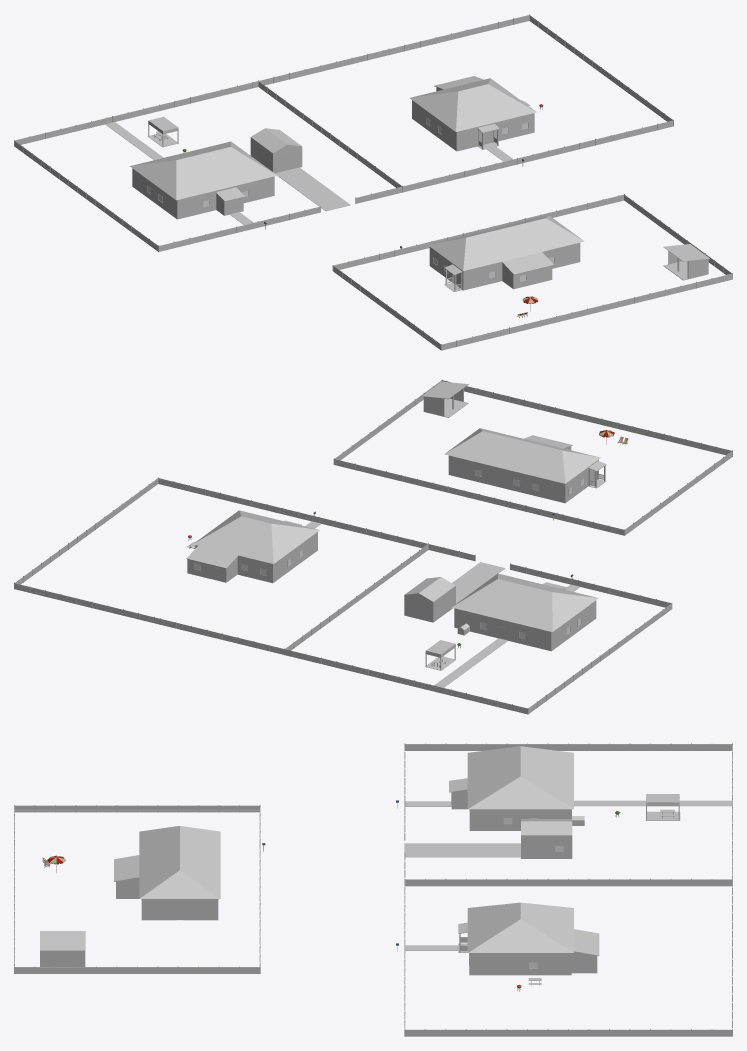
File: HauseHutor02.fbx
3 renders of one model, top to bottom at view 1: azimuth 30°, elevation 25°; view 2: azimuth 150°, elevation 25°; view 3: azimuth 270°, elevation 25°, orthographic. The views are drawn at different scales.
Visible parts, largest first — view 1: Zabor.013, Zabor.001, Roof, Zabor.024, Roof.003, Roof.005, Hause, HauseE.007, HauseE.004, Garaje, Cube.001, HauseE.019 (+2 smaller); view 2: Zabor.001, Zabor.013, Roof, Zabor.024, Roof.003, Roof.005, HauseE.004, Hause, Garaje, HauseE.007, Cube.001, Roof.004 (+3 smaller); view 3: Roof, Roof.003, Zabor.013, Roof.005, Zabor.001, Zabor.024, HauseE.007, Garaje, Cube.001, HauseE.004, Hause, FermHauseС.005 (+6 smaller).
Part boxes in pixels (x1=…): Zabor.013: x1=14, y1=80, x2=403, y2=251; Zabor.001: x1=332, y1=194, x2=732, y2=350; Roof: x1=130, y1=141, x2=277, y2=200; Zabor.024: x1=259, y1=14, x2=673, y2=192; Roof.003: x1=428, y1=215, x2=584, y2=270; Roof.005: x1=410, y1=78, x2=536, y2=131; Hause: x1=132, y1=168, x2=274, y2=219; HauseE.007: x1=412, y1=100, x2=534, y2=150; HauseE.004: x1=429, y1=242, x2=580, y2=290; Garaje: x1=250, y1=128, x2=302, y2=173; Cube.001: x1=275, y1=167, x2=350, y2=211; HauseE.019: x1=502, y1=263, x2=552, y2=288; Zabor.001: x1=333, y1=379, x2=732, y2=535; Zabor.013: x1=284, y1=543, x2=672, y2=714; Roof: x1=451, y1=573, x2=598, y2=631; Zabor.024: x1=14, y1=477, x2=427, y2=654; Roof.003: x1=444, y1=428, x2=600, y2=483; Roof.005: x1=193, y1=510, x2=319, y2=563; HauseE.004: x1=448, y1=455, x2=598, y2=502; Hause: x1=454, y1=600, x2=596, y2=650; Garaje: x1=404, y1=577, x2=455, y2=622; HauseE.007: x1=195, y1=532, x2=317, y2=582; Cube.001: x1=452, y1=562, x2=505, y2=603; Roof.004: x1=186, y1=546, x2=238, y2=568; Roof: x1=467, y1=746, x2=573, y2=809; Roof.003: x1=139, y1=826, x2=220, y2=898; Zabor.013: x1=404, y1=743, x2=732, y2=886; Roof.005: x1=467, y1=902, x2=573, y2=952; Zabor.001: x1=14, y1=805, x2=260, y2=973; Zabor.024: x1=404, y1=880, x2=732, y2=1036; HauseE.007: x1=469, y1=953, x2=571, y2=974; Garaje: x1=521, y1=819, x2=572, y2=858; Cube.001: x1=404, y1=843, x2=520, y2=857; HauseE.004: x1=141, y1=899, x2=218, y2=920; Hause: x1=469, y1=809, x2=571, y2=830; FermHauseС.005: x1=40, y1=931, x2=85, y2=950.
Bounding box in the file's own units: 10589 × 758 × 11248.
